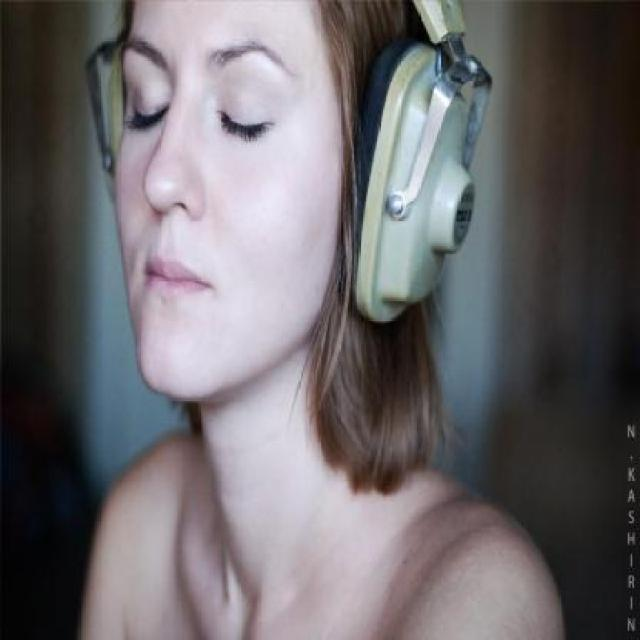earphone: (328, 0, 492, 356)
